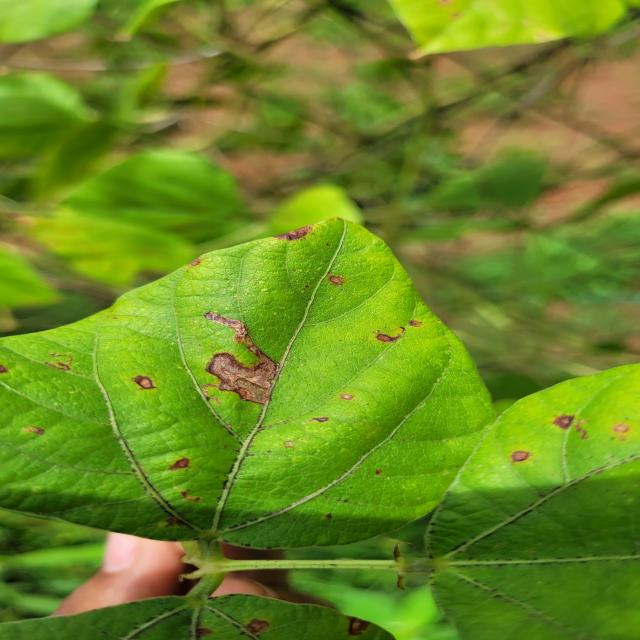Dolicos bean_cercospora leaf spot: (0, 205, 488, 557)
